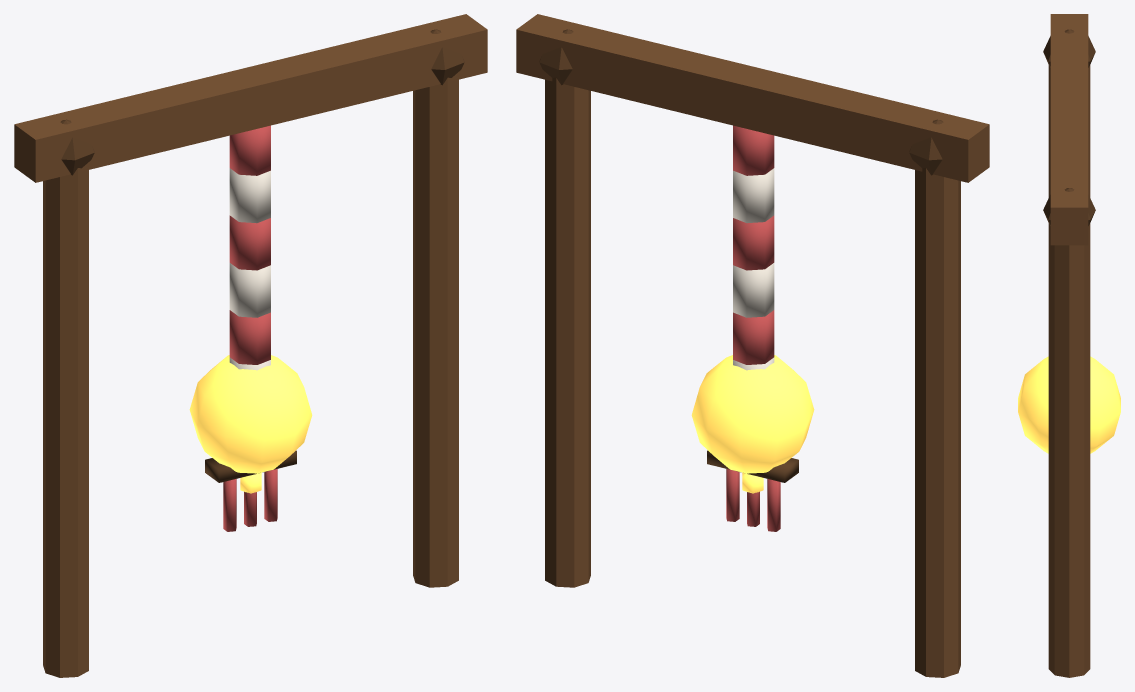
Rendered from xy_critter_bell.glb.
3 renders of one model, left to right at view 1: azimuth 30°, elevation 25°; view 2: azimuth 150°, elevation 25°; view 3: azimuth 270°, elevation 25°, orthographic. The views are drawn at different scales.
Visible parts, largest first — view 1: Frame, Bell; view 2: Frame, Bell; view 3: Frame, Bell.
Part boxes in pixels (x1,y1,x2,y2): Frame: (14, 14, 487, 677); Bell: (189, 125, 312, 531); Frame: (516, 14, 989, 677); Bell: (691, 125, 814, 531); Frame: (1043, 14, 1095, 677); Bell: (1018, 356, 1120, 453).
Size of the model in its own units: 2.2 by 2.55 by 0.4945.
